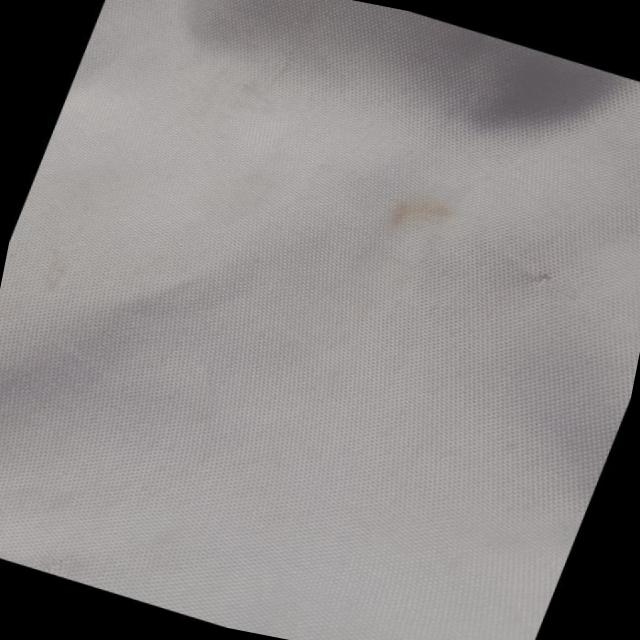stain: (367, 175, 472, 266)
